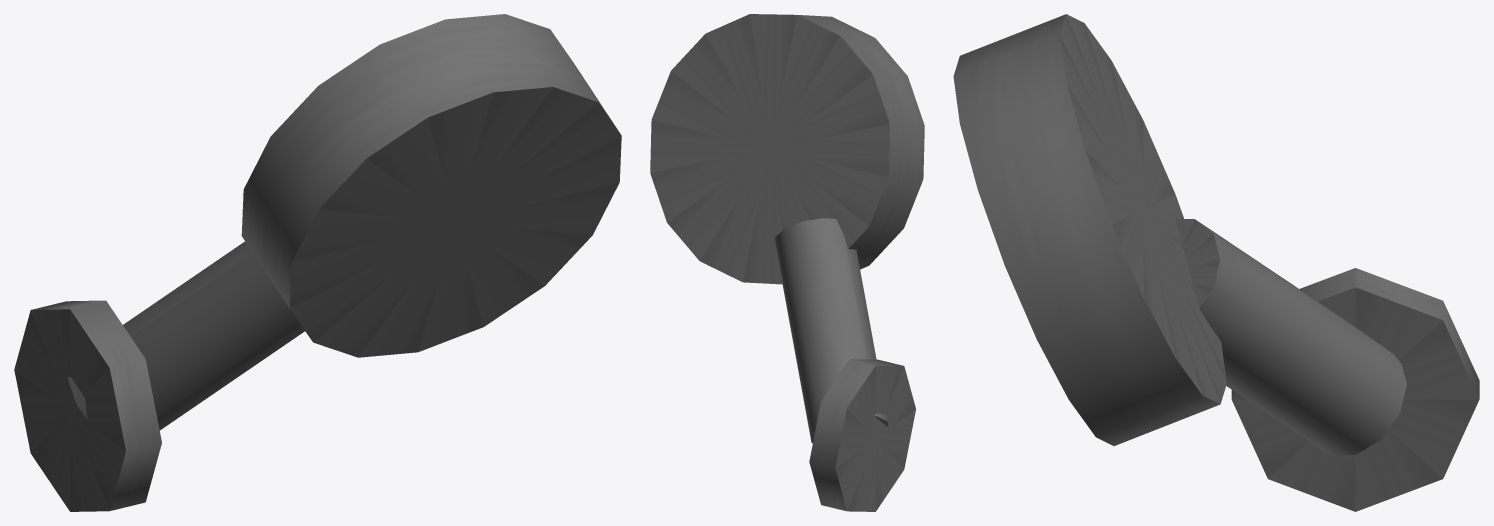
File: mastarmcurve_8x2_c1_west.obj
3 renders of one model, left to right at view 1: azimuth 30°, elevation 25°; view 2: azimuth 150°, elevation 25°; view 3: azimuth 270°, elevation 25°, orthographic. The views are drawn at different scales.
Visible parts, largest first — view 1: mastarm_8x2_c1_west; view 2: mastarm_8x2_c1_west; view 3: mastarm_8x2_c1_west.
Boxes of the visible parts, x1,y1,x2,y2 form: mastarm_8x2_c1_west: [14, 14, 621, 511]; mastarm_8x2_c1_west: [650, 14, 924, 511]; mastarm_8x2_c1_west: [953, 14, 1479, 511].
Bounding box in the file's own units: 0.849 × 1.05 × 0.8488.
